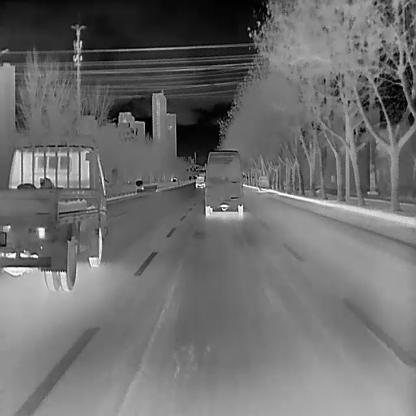car: (204, 149, 242, 215), (258, 174, 268, 188), (135, 179, 143, 190)
truck: (0, 136, 118, 291), (194, 174, 204, 186)
